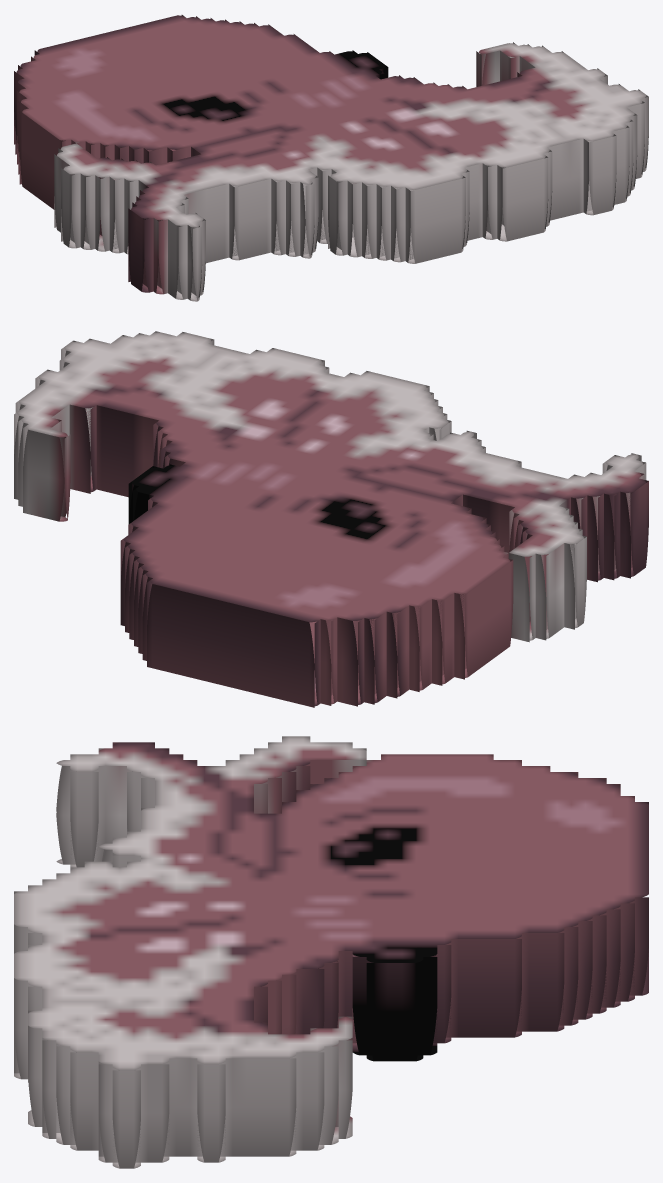
The model's file is Octopus_model.fbx.
3 views of the same model, one above another, from view 1: azimuth 30°, elevation 25°; view 2: azimuth 150°, elevation 25°; view 3: azimuth 270°, elevation 25° (orthographic). The views are drawn at different scales.
Visible parts, largest first — view 1: Octopus_0; view 2: Octopus_0; view 3: Octopus_0.
Boxes of the visible parts, <box> form: Octopus_0: <box>14,15,648,301</box>; Octopus_0: <box>14,331,648,707</box>; Octopus_0: <box>14,736,648,1168</box>.
Size of the model in its own units: 72.73 by 10 by 58.44.
Materials: 1 (1 with a texture image).
